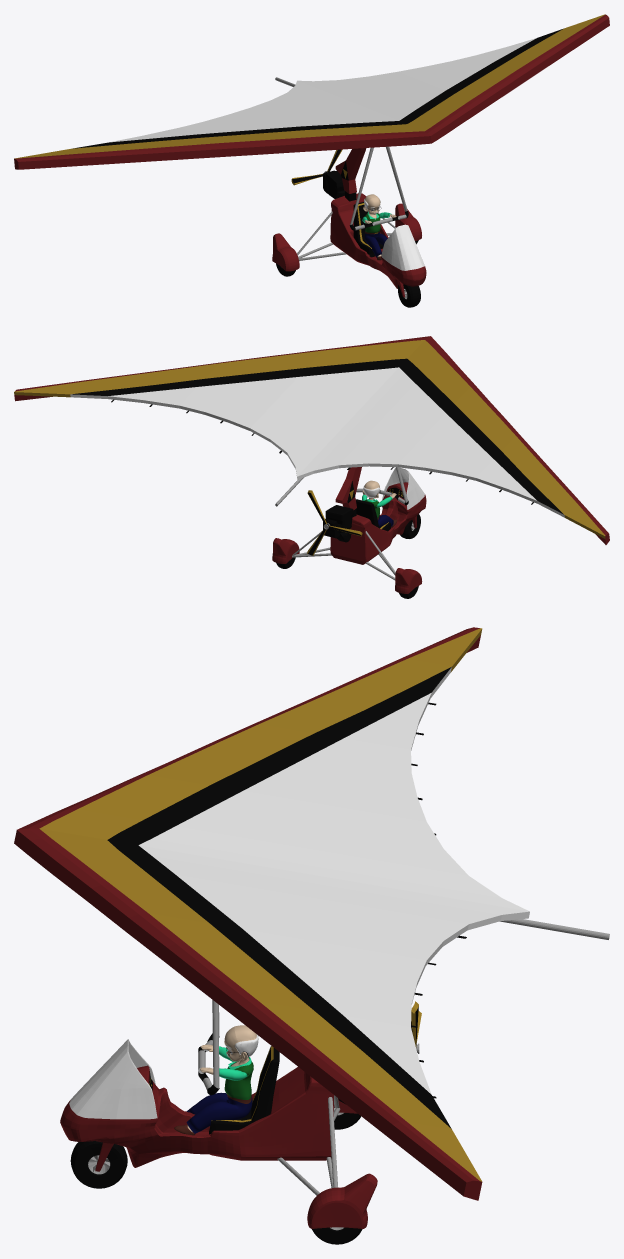
Rendered from Player.fbx.
3 views of the same model, one above another, from view 1: azimuth 30°, elevation 25°; view 2: azimuth 150°, elevation 25°; view 3: azimuth 270°, elevation 25° (orthographic). The views are drawn at different scales.
Visible parts, largest first — view 1: cart; view 2: cart, helice; view 3: cart.
Part boxes in pixels (bbox=[...]): cart: bbox=[14, 14, 609, 307]; cart: bbox=[14, 336, 609, 598]; helice: bbox=[307, 490, 362, 555]; cart: bbox=[14, 627, 609, 1244].
Size of the model in its own units: 22.6 by 6.82 by 10.29.
